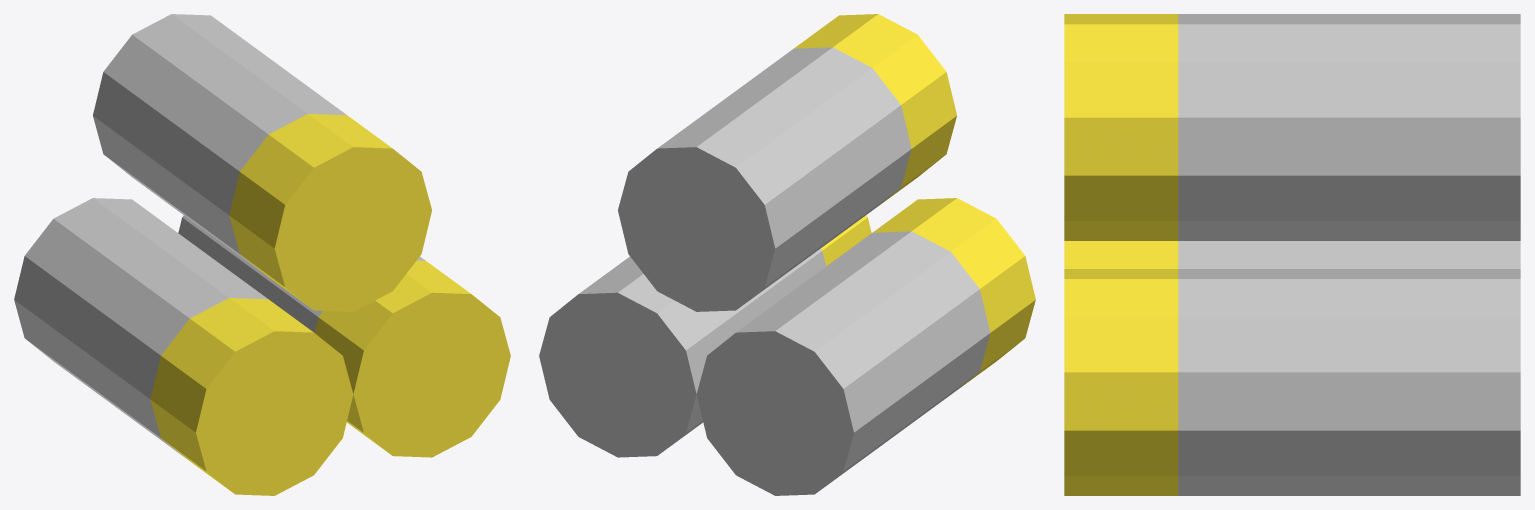
Rendered from Shotgun - Ammo.obj.
3 renders of one model, left to right at view 1: azimuth 30°, elevation 25°; view 2: azimuth 150°, elevation 25°; view 3: azimuth 270°, elevation 25°, orthographic. The views are drawn at different scales.
Parts seen in each view (by area): view 1: group2051160685, group2045724089, group992368549, group1470426596, group1093279528, group547957561; view 2: group2051160685, group2045724089, group547957561, group1470426596, group992368549, group1093279528; view 3: group547957561, group2045724089, group1093279528, group1470426596, group2051160685, group992368549.
Boxes of the visible parts, x1,y1,x2,y2 form: group2051160685: (14,198,267,459); group2045724089: (93,14,346,274); group992368549: (150,298,353,495); group1470426596: (229,114,431,311); group1093279528: (315,260,510,457); group547957561: (178,215,425,332); group2051160685: (696,231,990,495); group2045724089: (618,47,911,311); group547957561: (539,248,825,457); group1470426596: (794,14,956,208); group992368549: (873,198,1035,391); group1093279528: (821,215,871,266); group547957561: (1178,269,1520,495); group2045724089: (1178,14,1520,240); group1093279528: (1064,269,1178,495); group1470426596: (1064,14,1178,240); group2051160685: (1178,241,1520,268); group992368549: (1064,241,1178,268).
Size of the model in its own units: 0.04 by 0.04 by 0.04.
